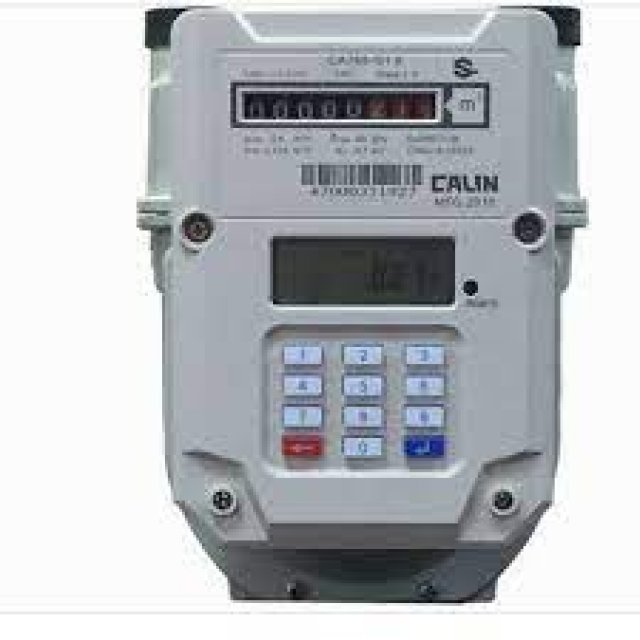box: (270, 234, 457, 308)
